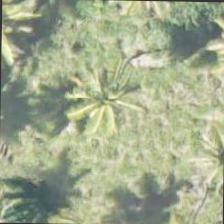Kelapa_Sawit: (62, 61, 154, 153)
